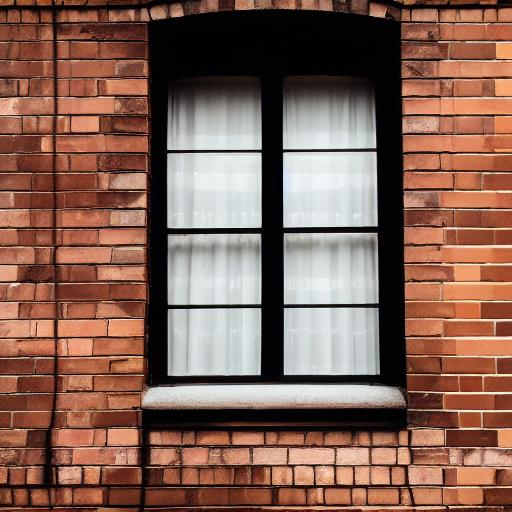Window: (136, 7, 419, 424)
